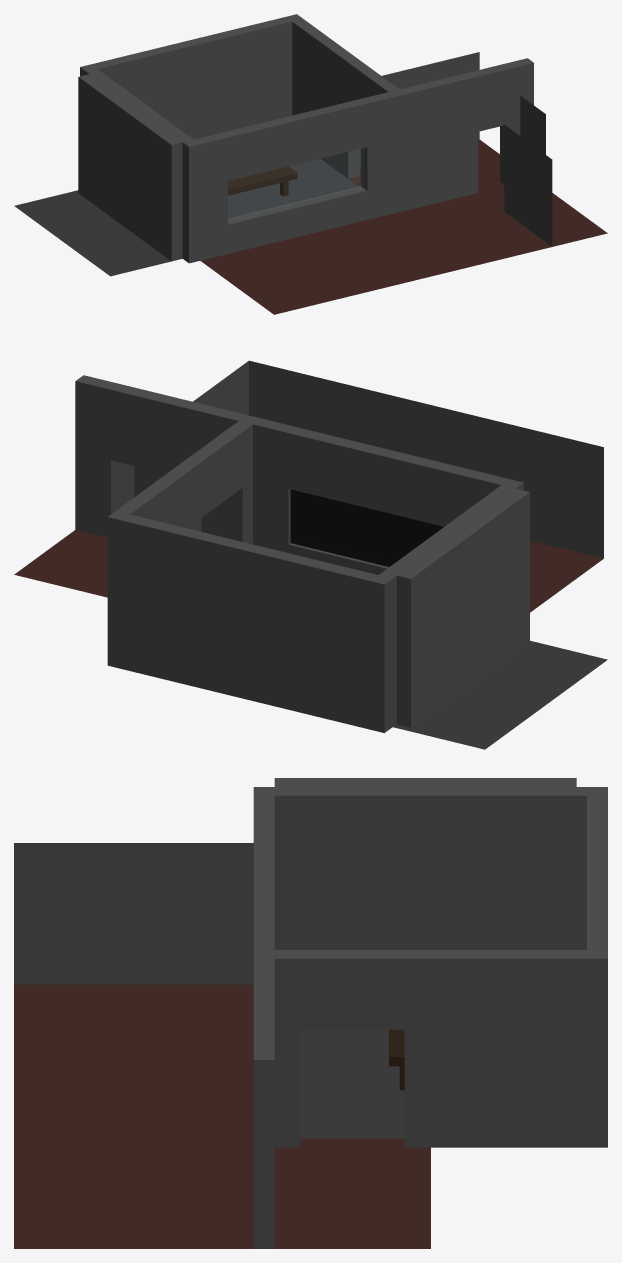
File: interrogation_rooms.glb
3 views of the same model, one above another, from view 1: azimuth 30°, elevation 25°; view 2: azimuth 150°, elevation 25°; view 3: azimuth 270°, elevation 25° (orthographic). The views are drawn at different scales.
Parts seen in each view (by area): view 1: ShortDoorFrame.001, ObservationFloor, ObservationWall, ShortDoorFrame, StaticDoor, InterrogationFloor, ObservationWallBack, HallWall, InterrogationTable; view 2: ShortDoorFrame.001, ObservationWallBack, StaticDoor, ObservationWall, ShortDoorFrame, InterrogationFloor, One-way, ObservationFloor; view 3: ShortDoorFrame.001, ObservationFloor, ObservationWallBack, StaticDoor, InterrogationFloor, ShortDoorFrame, ObservationWall, InterrogationTable.
Part boxes in pixels (x1,y1,x2,y2): ShortDoorFrame.001: [80, 14, 399, 263]; ObservationFloor: [200, 139, 607, 314]; ObservationWall: [194, 91, 400, 260]; ShortDoorFrame: [394, 58, 533, 211]; StaticDoor: [78, 74, 182, 261]; InterrogationFloor: [14, 158, 358, 276]; ObservationWallBack: [504, 95, 552, 246]; HallWall: [359, 52, 479, 168]; InterrogationTable: [228, 166, 297, 196]; ShortDoorFrame.001: [107, 421, 523, 732]; ObservationWallBack: [119, 360, 603, 558]; StaticDoor: [396, 488, 529, 727]; ObservationWall: [246, 416, 509, 574]; ShortDoorFrame: [75, 375, 253, 538]; InterrogationFloor: [393, 640, 607, 749]; One-way: [290, 489, 443, 566]; ObservationFloor: [14, 530, 603, 612]; ShortDoorFrame.001: [253, 787, 607, 1147]; ObservationFloor: [14, 984, 430, 1248]; ObservationWallBack: [14, 843, 253, 984]; StaticDoor: [274, 778, 576, 949]; InterrogationFloor: [300, 1029, 404, 1138]; ShortDoorFrame: [253, 954, 274, 1248]; ObservationWall: [253, 795, 274, 954]; InterrogationTable: [389, 1029, 404, 1090].
Bounding box in the file's own units: 15 × 4 × 11.4.
